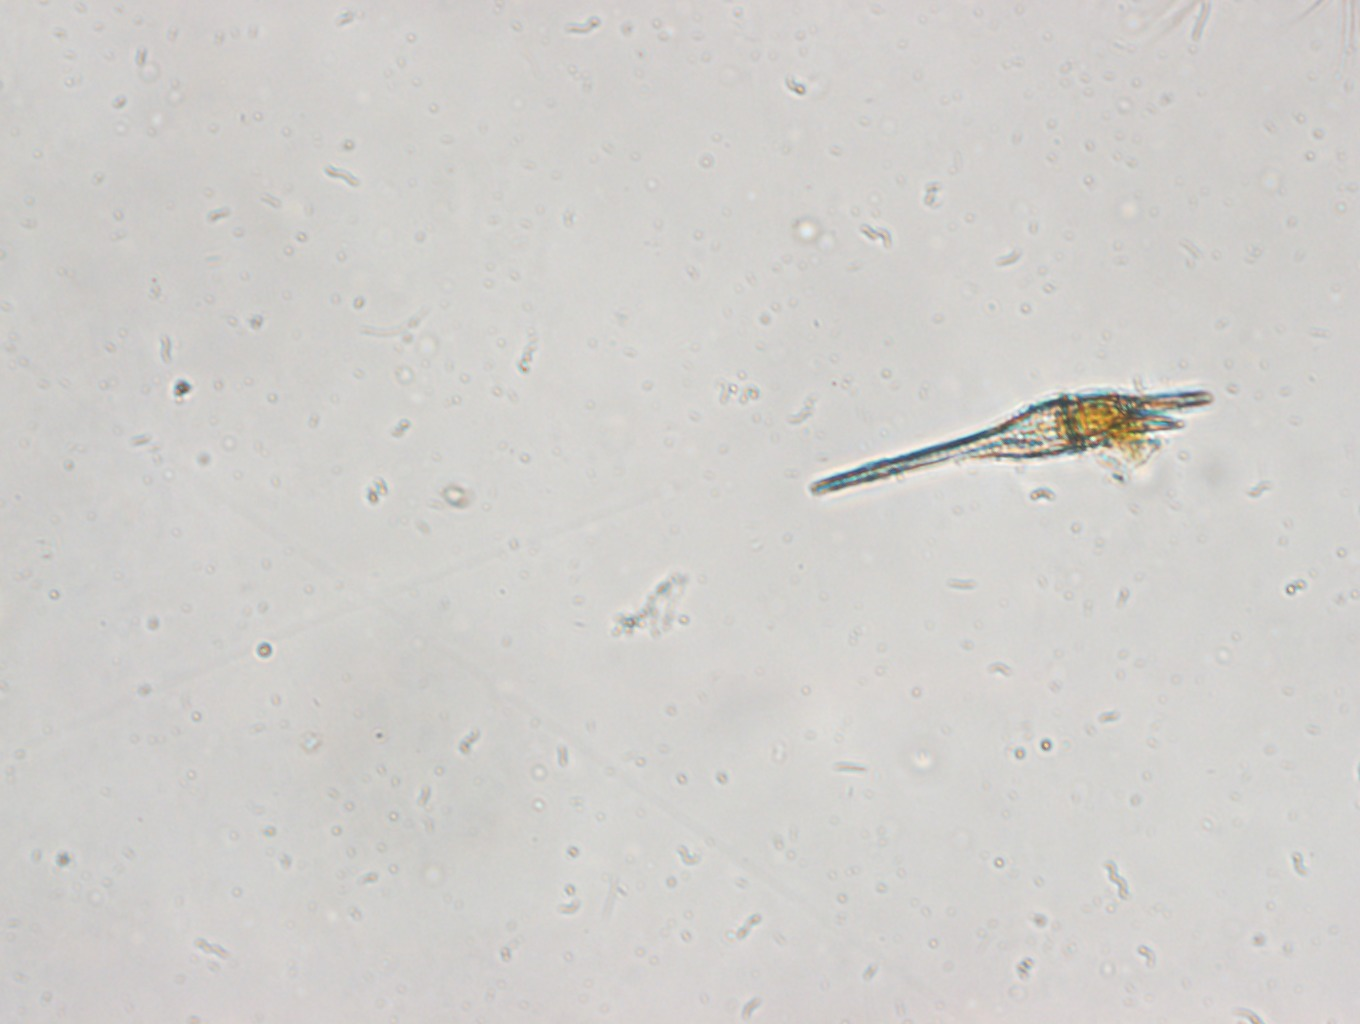ceratium furca: (805, 376, 1219, 499)
